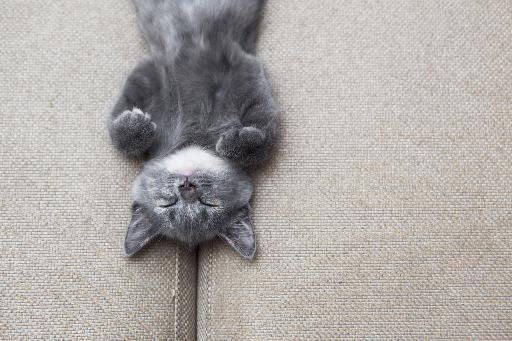cat_sleeping: (107, 0, 278, 259)
